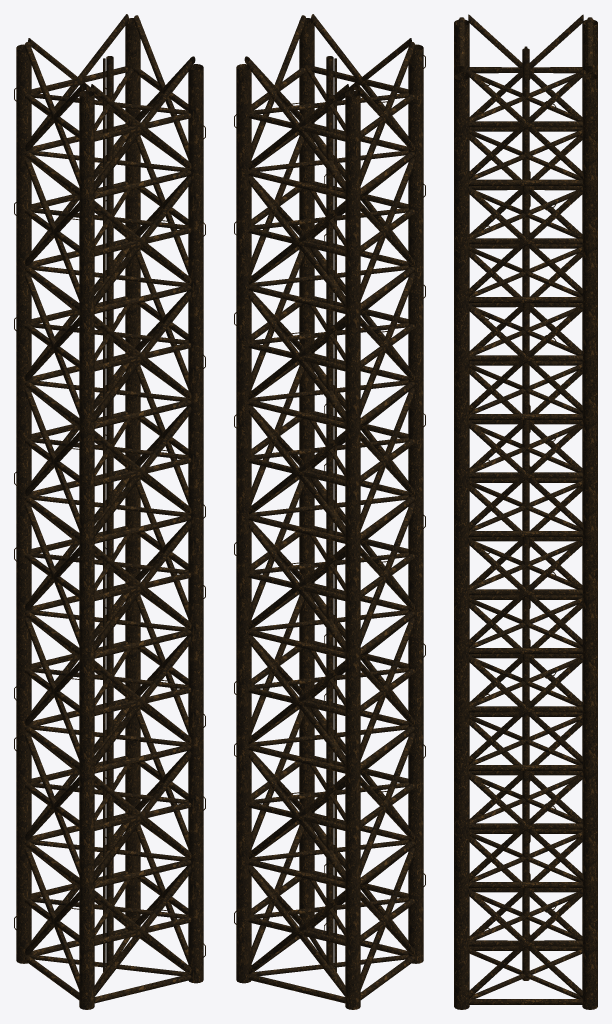
File: OilRigPier00.fbx
3 renders of one model, left to right at view 1: azimuth 30°, elevation 25°; view 2: azimuth 150°, elevation 25°; view 3: azimuth 270°, elevation 25°, orthographic.
Visible parts, largest first — view 1: oilrigpier; view 2: oilrigpier; view 3: oilrigpier.
Boxes of the visible parts, left/top/right/bottom form: oilrigpier: left=14, top=14, right=205, bottom=1009; oilrigpier: left=234, top=14, right=425, bottom=1009; oilrigpier: left=454, top=14, right=597, bottom=1009.
Bounding box in the file's own units: 28.07 × 202 × 28.07.
